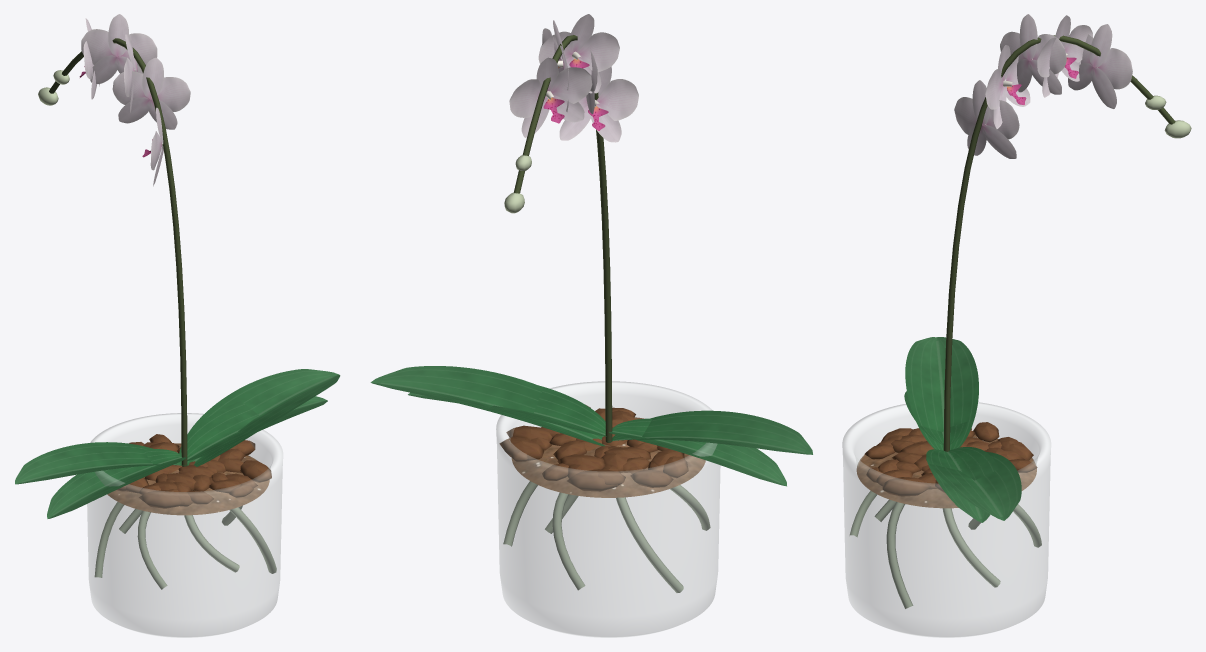
The model's file is orchid.glb.
The picture shows the model from 3 angles, left to right: view 1: azimuth 30°, elevation 25°; view 2: azimuth 150°, elevation 25°; view 3: azimuth 270°, elevation 25°; orthographic projection. The views are drawn at different scales.
Parts seen in each view (by area): view 1: piece-0, piece-3, piece-4, piece-5, piece-7, piece-1, piece-30, piece-6, piece-2, piece-12, piece-13, piece-21 (+1 smaller); view 2: piece-0, piece-3, piece-4, piece-5, piece-1, piece-30, piece-7, piece-2, piece-6, piece-25, piece-17, piece-9 (+3 smaller); view 3: piece-0, piece-5, piece-3, piece-30, piece-1, piece-4, piece-6, piece-2, piece-24, piece-16, piece-8, piece-9 (+7 smaller).
Part boxes in pixels (x1=…): piece-0: x1=87, y1=413, x2=282, y2=637; piece-3: x1=117, y1=434, x2=271, y2=508; piece-4: x1=179, y1=369, x2=340, y2=466; piece-5: x1=15, y1=442, x2=186, y2=484; piece-7: x1=47, y1=449, x2=186, y2=518; piece-1: x1=94, y1=502, x2=276, y2=589; piece-30: x1=49, y1=38, x2=187, y2=466; piece-6: x1=181, y1=396, x2=327, y2=460; piece-2: x1=107, y1=443, x2=269, y2=515; piece-12: x1=118, y1=57, x2=177, y2=129; piece-13: x1=112, y1=71, x2=190, y2=111; piece-21: x1=81, y1=29, x2=157, y2=67; piece-0: x1=496, y1=381, x2=720, y2=637; piece-3: x1=499, y1=405, x2=688, y2=491; piece-4: x1=370, y1=366, x2=604, y2=446; piece-5: x1=608, y1=410, x2=812, y2=454; piece-1: x1=503, y1=481, x2=710, y2=592; piece-30: x1=513, y1=35, x2=612, y2=442; piece-7: x1=609, y1=418, x2=786, y2=486; piece-2: x1=511, y1=417, x2=705, y2=497; piece-6: x1=408, y1=385, x2=606, y2=436; piece-25: x1=509, y1=67, x2=592, y2=117; piece-17: x1=538, y1=31, x2=619, y2=72; piece-9: x1=578, y1=79, x2=638, y2=120; piece-0: x1=842, y1=402, x2=1050, y2=637; piece-5: x1=905, y1=337, x2=978, y2=450; piece-3: x1=864, y1=422, x2=1037, y2=496; piece-30: x1=943, y1=35, x2=1175, y2=451; piece-1: x1=850, y1=491, x2=1041, y2=608; piece-4: x1=926, y1=452, x2=1021, y2=520; piece-6: x1=926, y1=447, x2=998, y2=522; piece-2: x1=856, y1=434, x2=1036, y2=508; piece-24: x1=1068, y1=24, x2=1116, y2=108; piece-16: x1=1017, y1=14, x2=1061, y2=94; piece-8: x1=967, y1=80, x2=1016, y2=158; piece-9: x1=954, y1=97, x2=1019, y2=139.
Size of the model in its own units: 0.3349 by 0.4929 by 0.2691.
11 materials, 6 textured.
